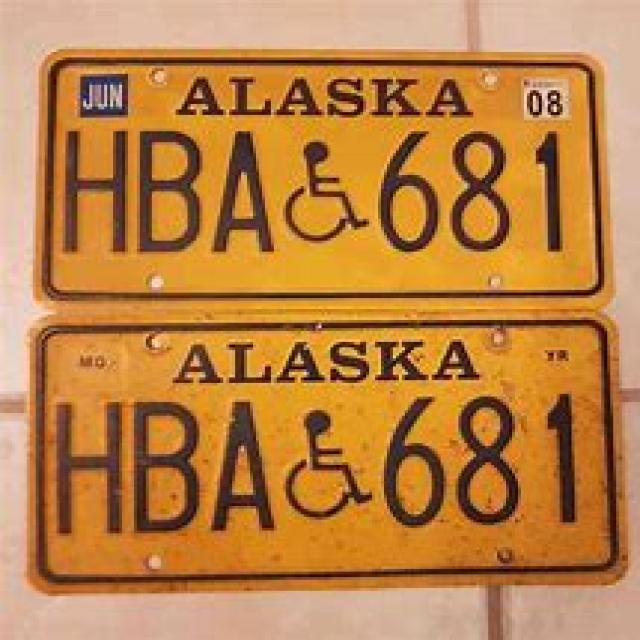car-handicap-placard: (281, 410, 373, 520), (282, 138, 370, 244)
